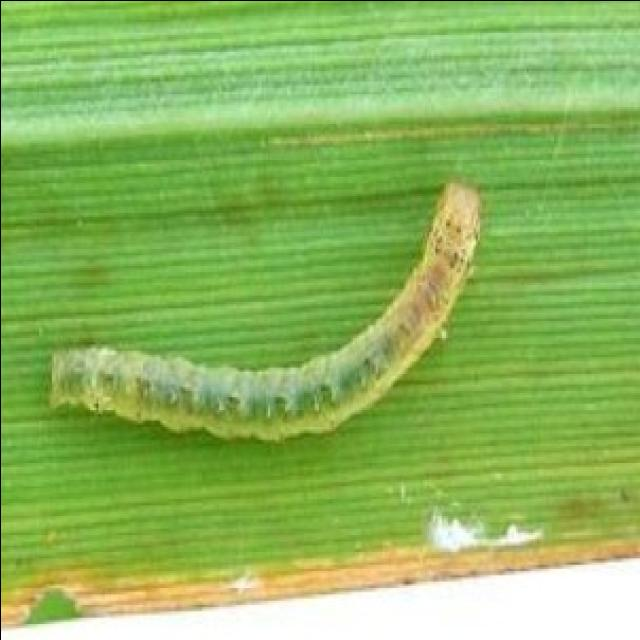rice leaf roller: (51, 180, 479, 439)
